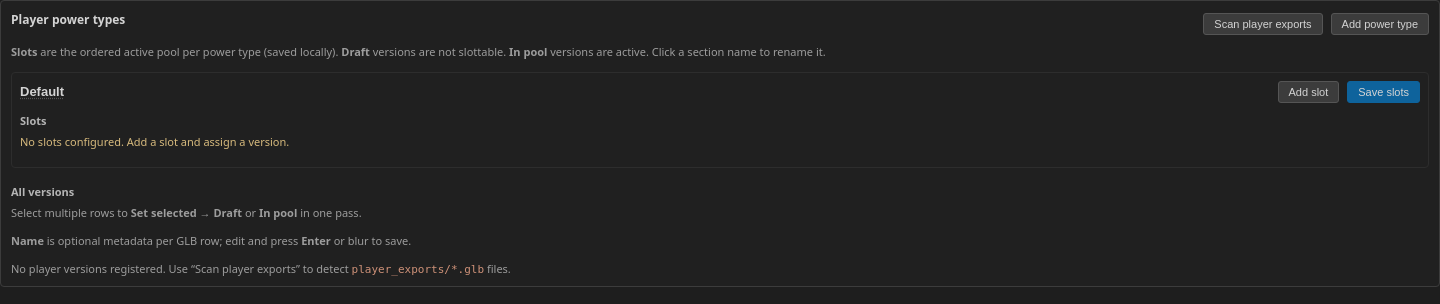
RegistryPlayerPowerTypesSection › clicking name button switches it to an editable input
Click the button with test id "player-pt-name-btn-default" at (42, 92), box [20, 82, 64, 101]
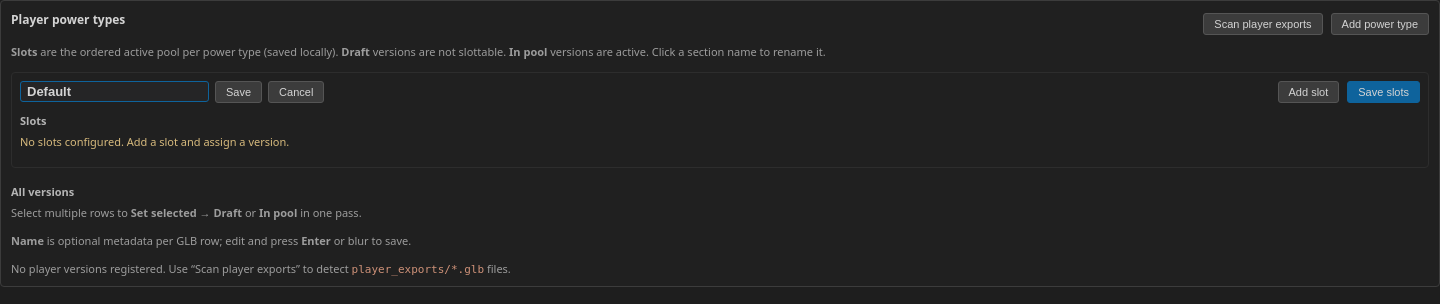
Check: the field with test id "player-pt-name-input-default" is shown, box [20, 81, 209, 102]
